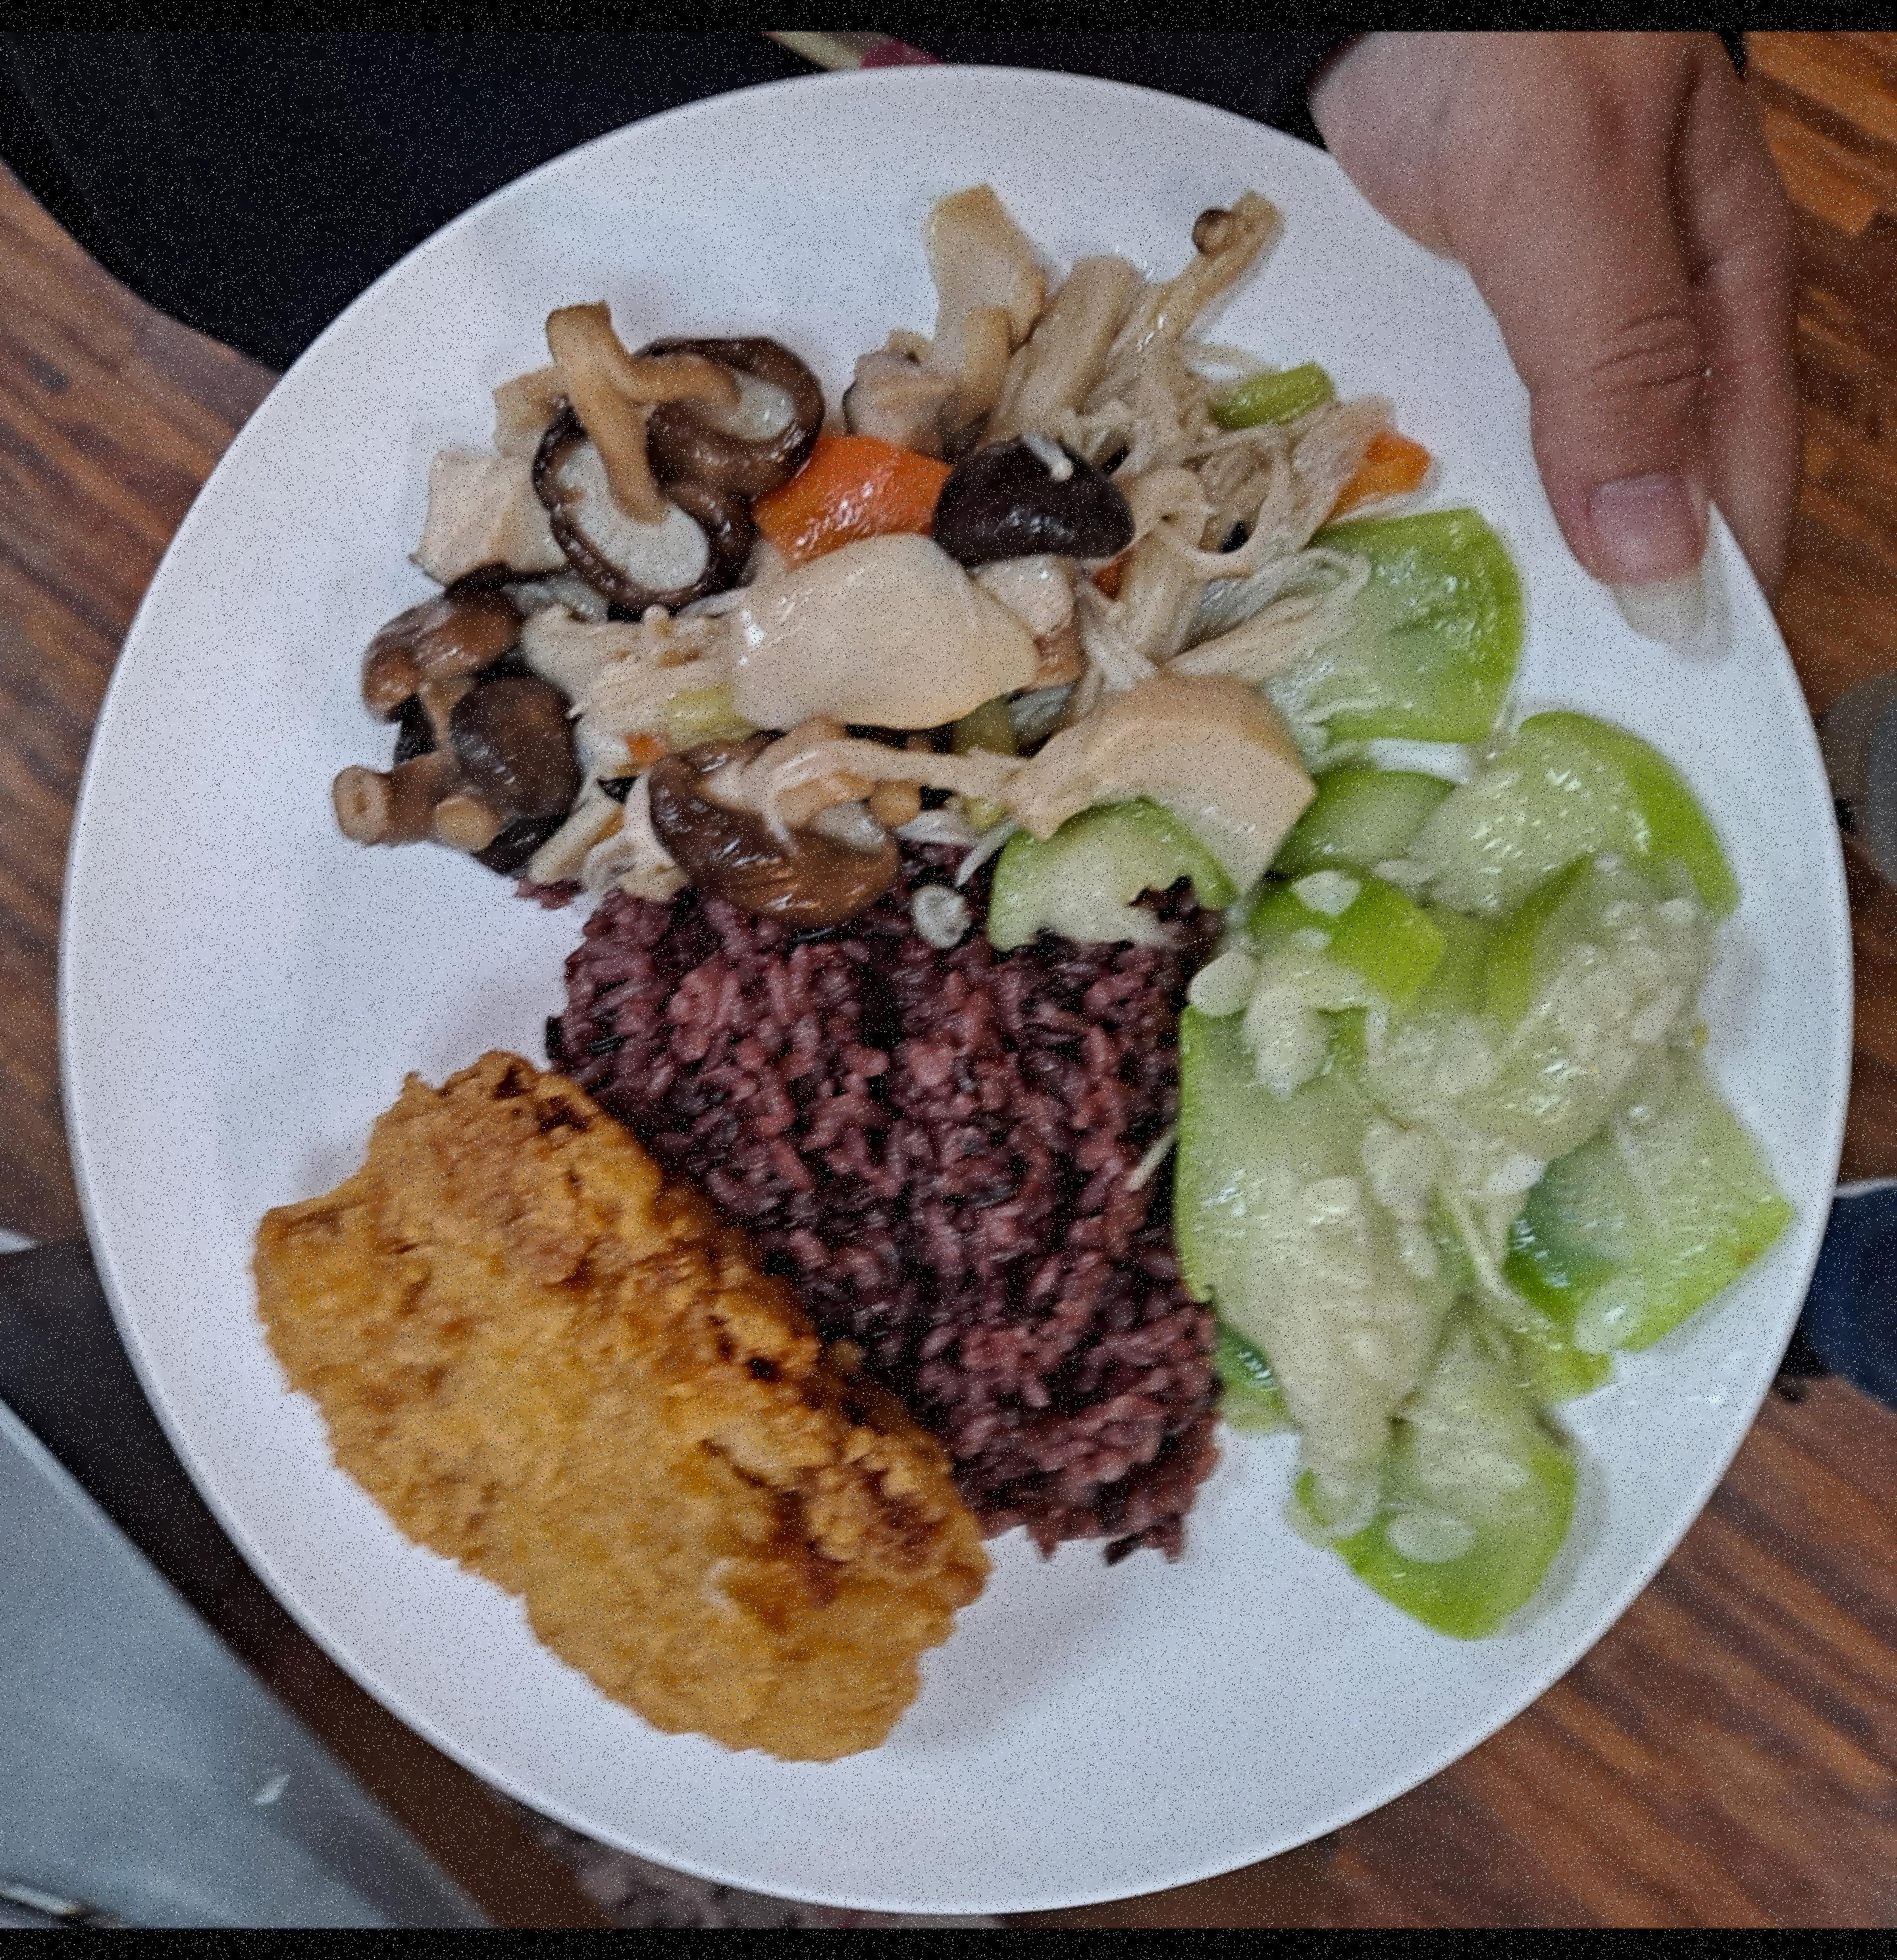kara chicken leg steak: (121, 727, 665, 1234)
plate: (7, 51, 1235, 1337)
purple rice: (366, 610, 821, 1091)
side dish: (657, 388, 1212, 1169), (205, 132, 908, 654)
